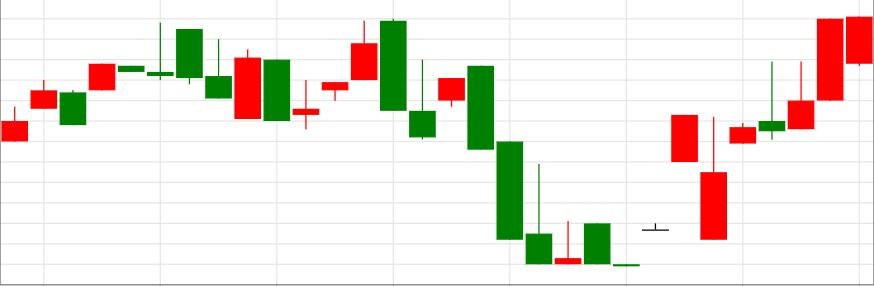bearish_engulfing_fall: (293, 18, 407, 129)
inverse_hammer_rise: (468, 66, 552, 264)
